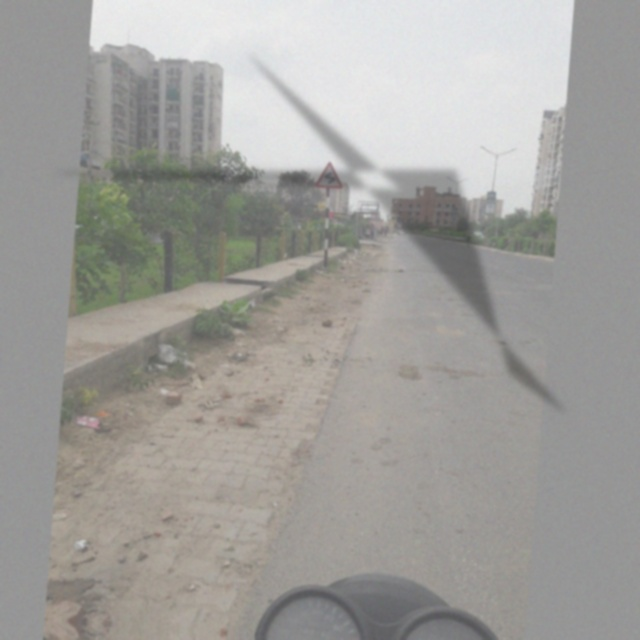Left_Reverse_Bend: (313, 155, 349, 194)
